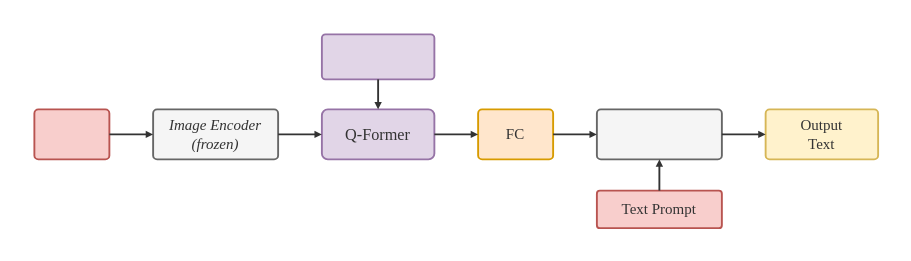
This 911x261 diagram has some shape labels left out. The shapes that lost their labels are listed below. From the top down, each one's centre as x and y in pixels, then its label:
At [377,56]: "Learned Queries".
At [71,134]: "Image".
At [658,134]: "LLM Decoder (frozen)".
